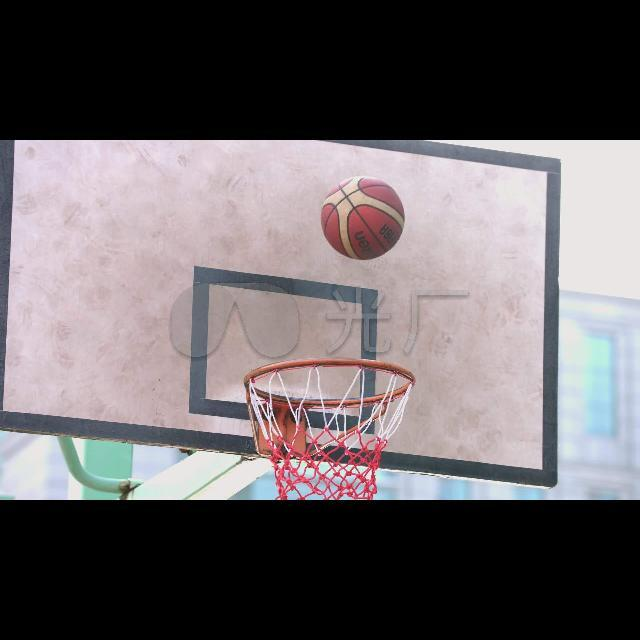basketball: (321, 177, 404, 259)
rim: (244, 358, 413, 500)
